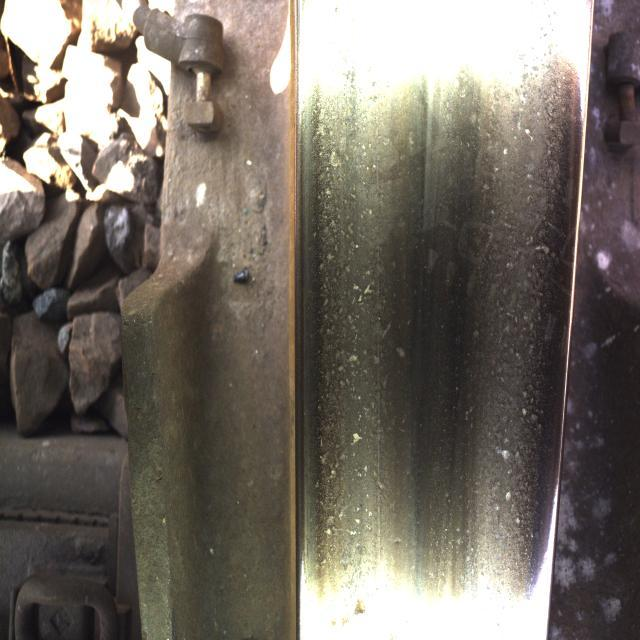scar: (308, 40, 404, 592), (472, 48, 550, 588)
